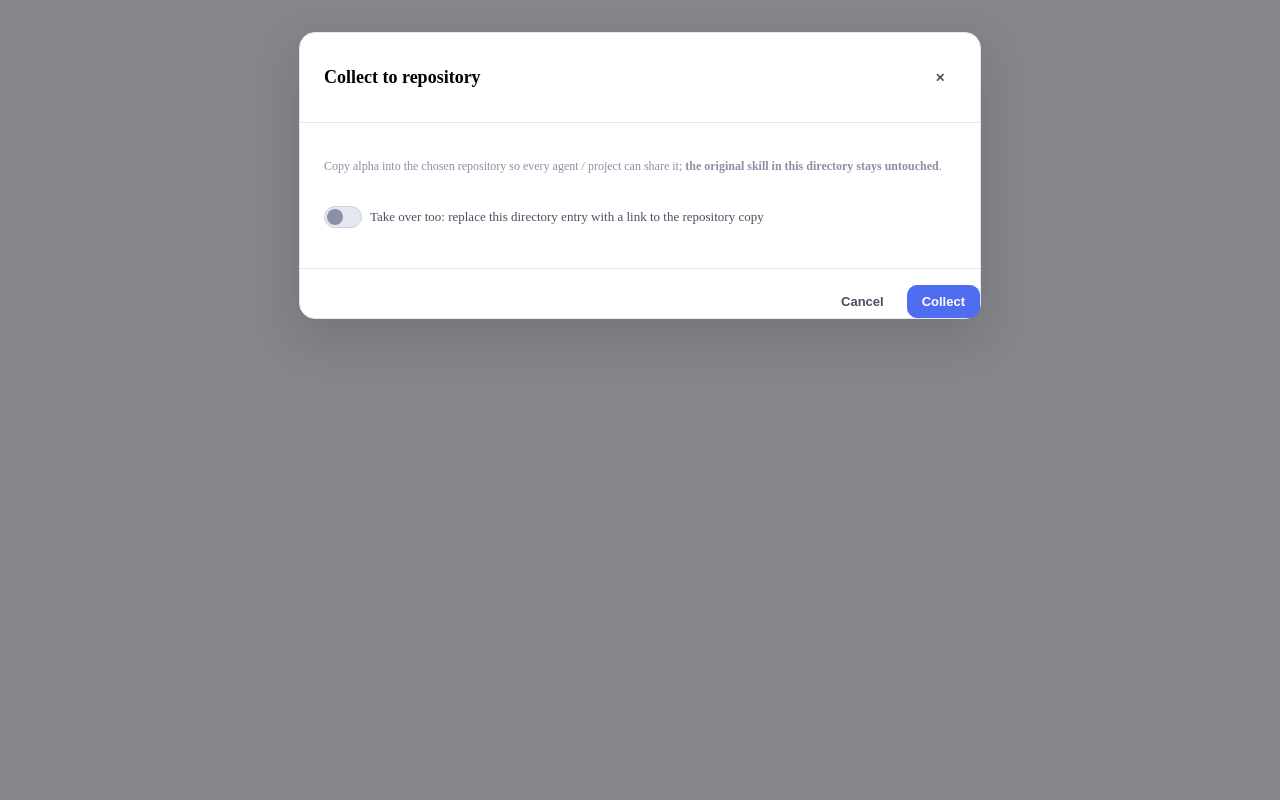
Test case: CollectSkillModal › 归集抛错时提示错误信息
Click the button "Collect": (943, 302) [907,285,980,318]
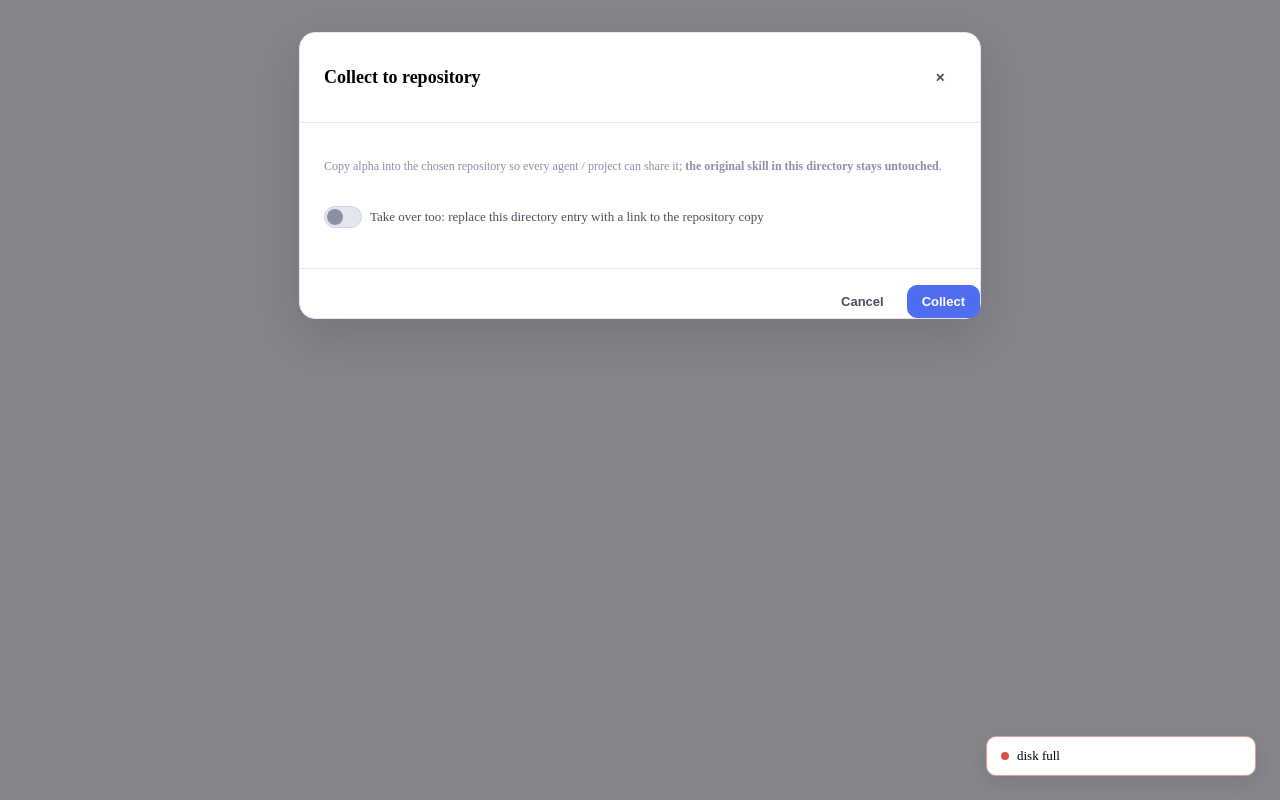
Expected: the text "disk full" is shown, [1017,748,1060,764]
